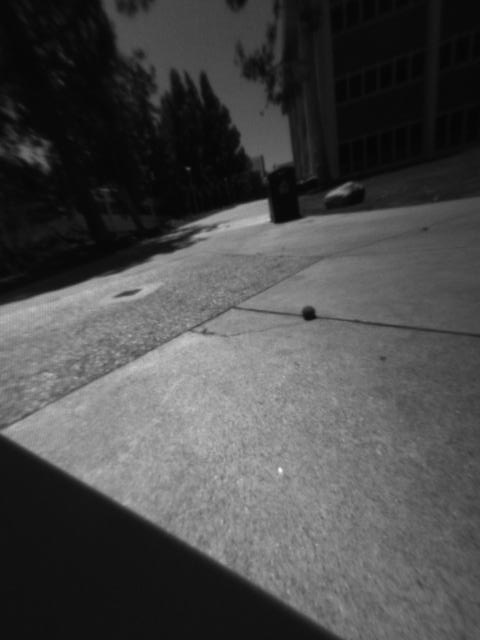dogtoy: (296, 296, 329, 327)
